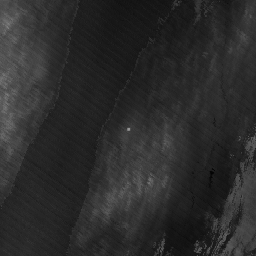Target: (134, 60, 141, 67)
